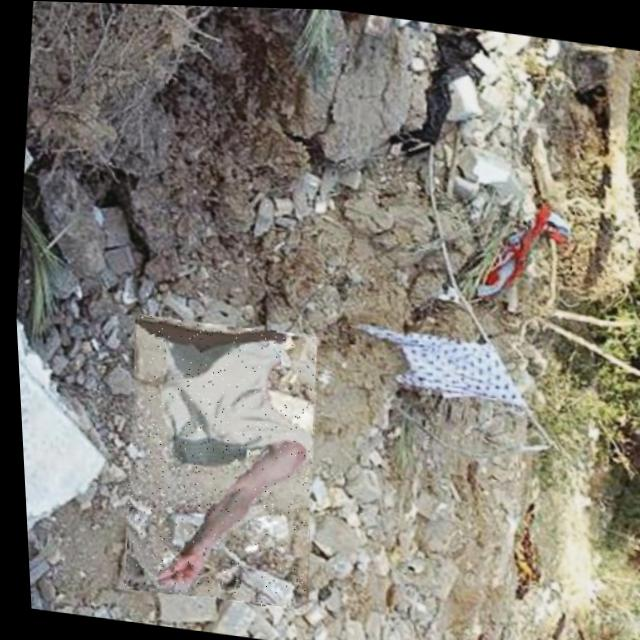Person in Rubble: (104, 311, 326, 610)
